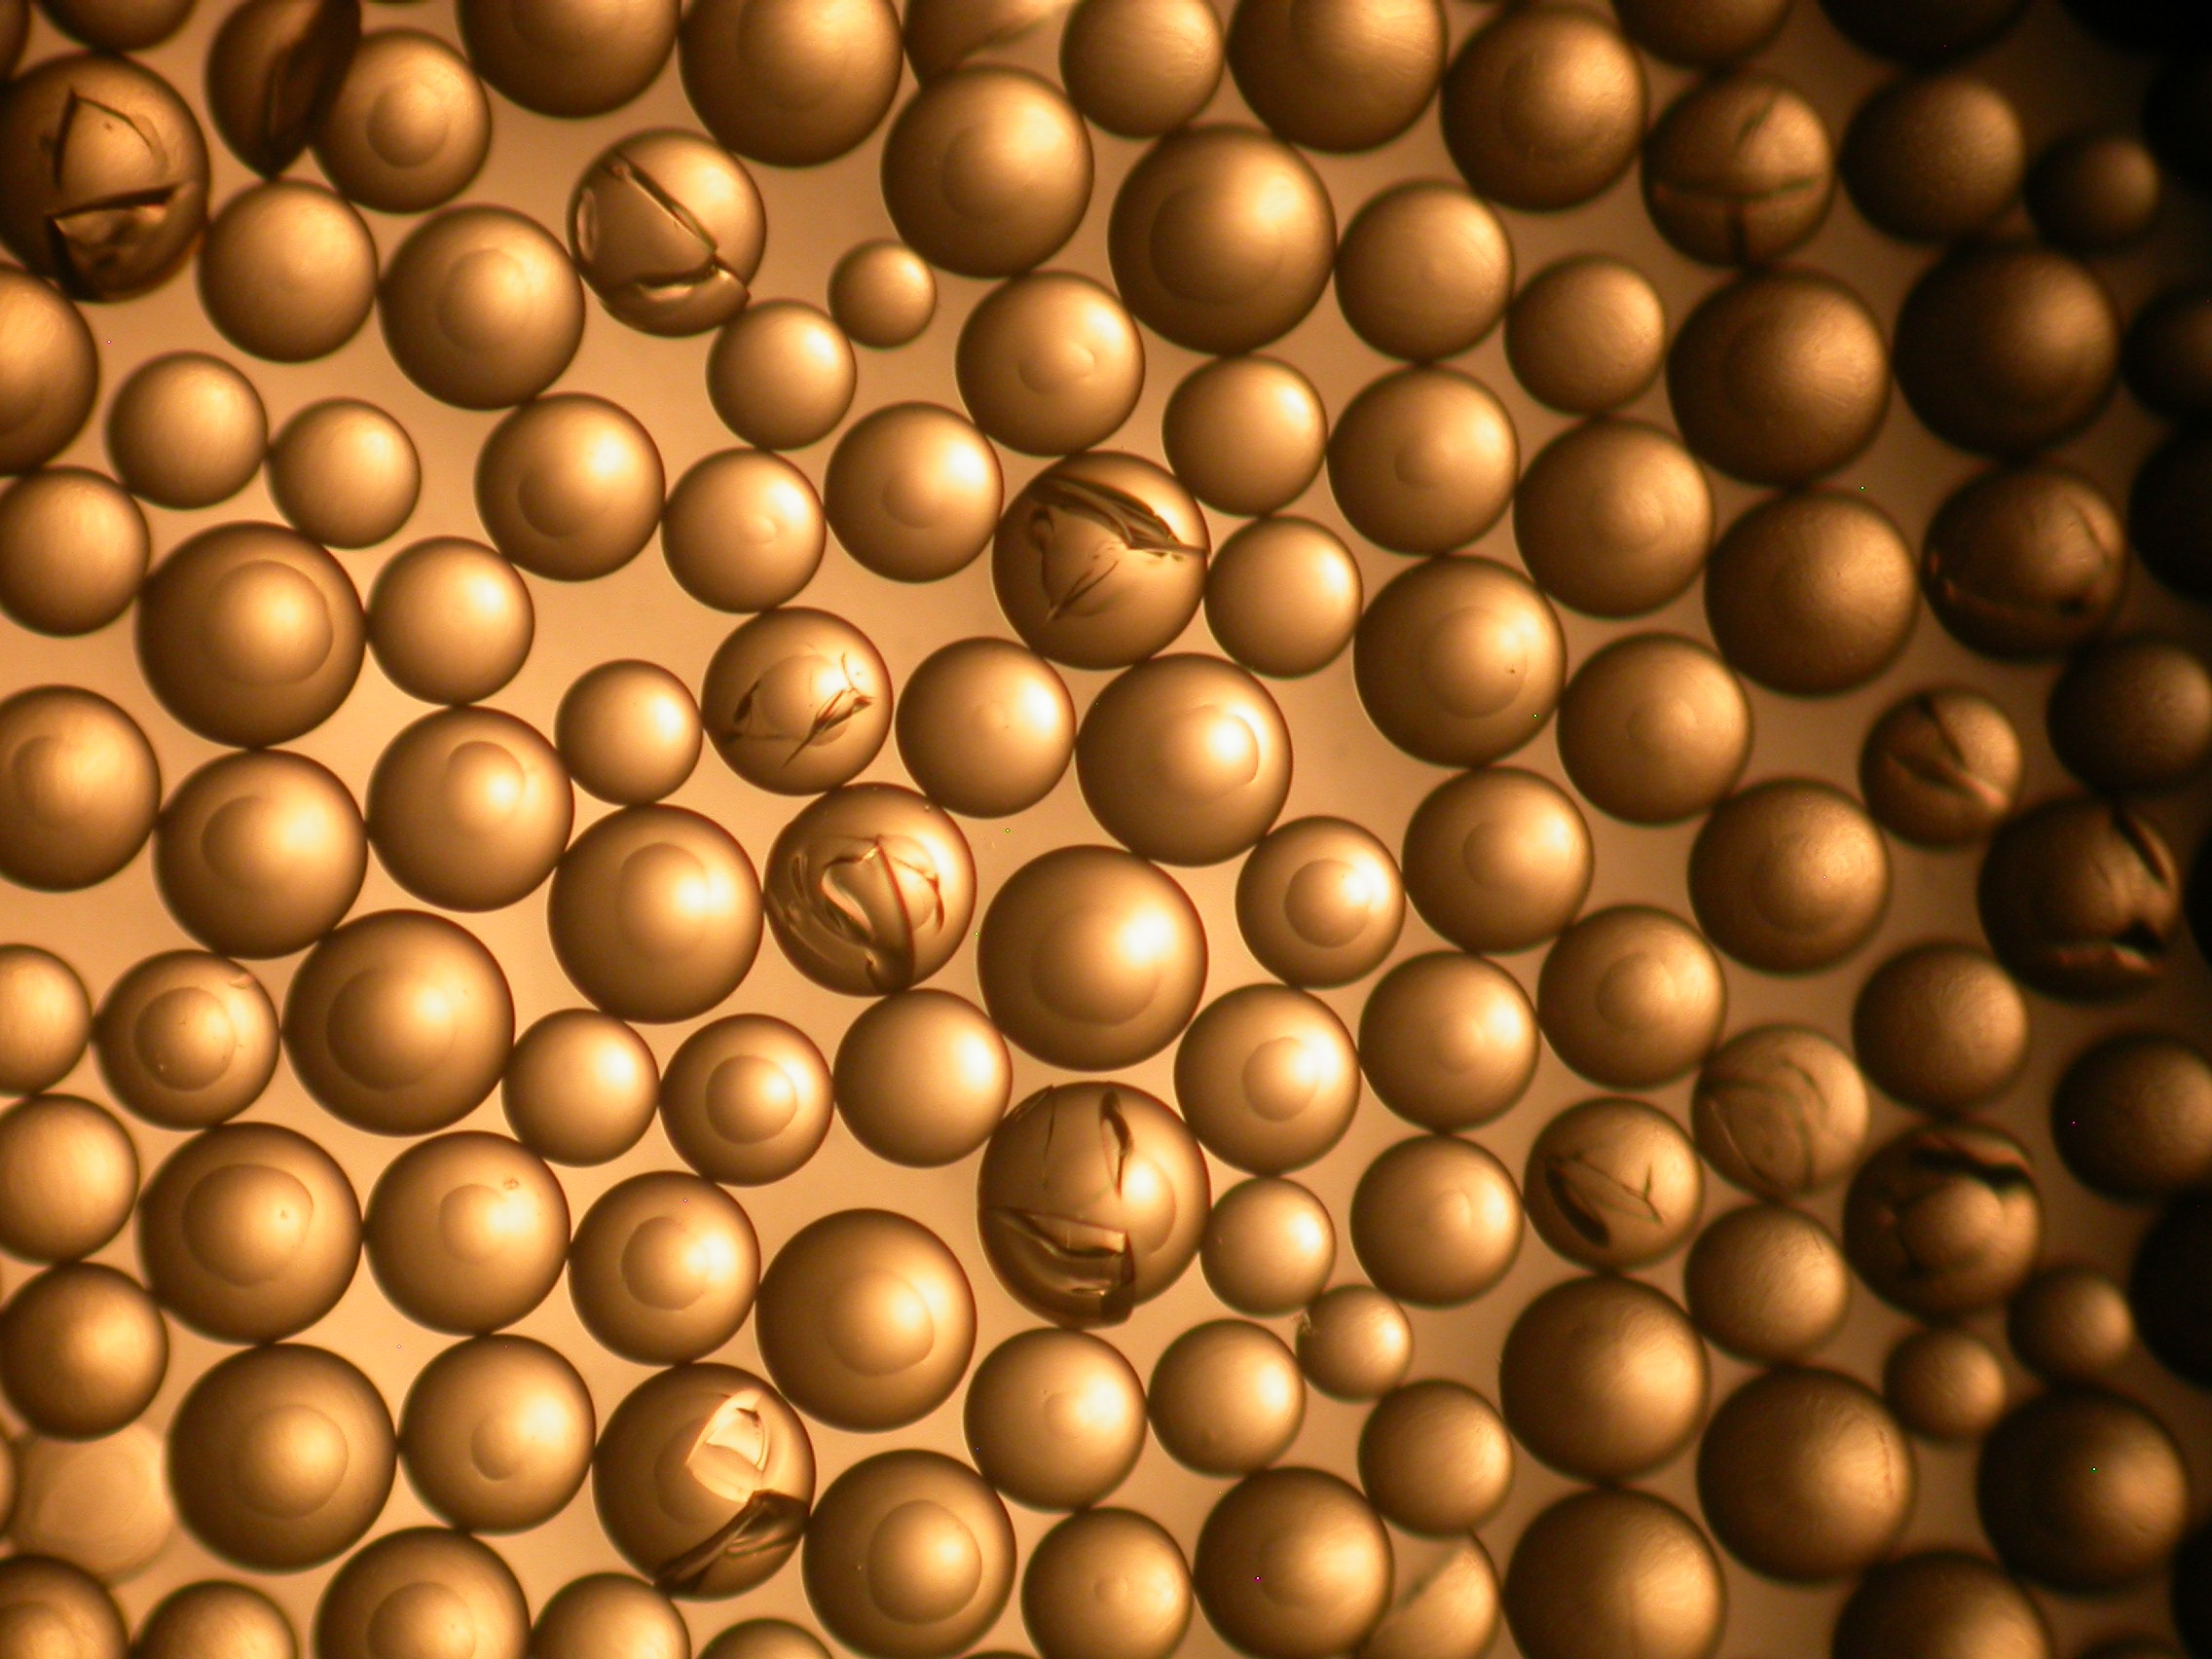destroyed_resin: (977, 1084, 1214, 1331), (592, 1364, 819, 1601), (2, 52, 207, 301), (991, 450, 1211, 673), (763, 782, 979, 997), (1919, 460, 2128, 669), (1977, 796, 2184, 1006), (564, 125, 766, 338), (1843, 1115, 2045, 1324), (1641, 73, 1838, 270), (700, 606, 894, 795), (1526, 1096, 1703, 1272), (1693, 1025, 1871, 1199), (202, 2, 359, 181), (1858, 687, 2024, 852), (1364, 1534, 1507, 1659), (902, 2, 1066, 84)
full_resin: (167, 1342, 397, 1577), (977, 845, 1211, 1073), (282, 911, 517, 1138), (136, 525, 368, 748), (1108, 127, 1332, 355), (756, 1208, 979, 1434), (138, 1122, 362, 1345), (1895, 239, 2121, 460), (1669, 270, 1893, 488), (547, 803, 766, 1023), (1696, 1370, 1921, 1581), (1353, 554, 1569, 769), (1076, 653, 1291, 868), (880, 63, 1094, 277), (1498, 1274, 1714, 1486), (152, 749, 369, 960), (1705, 488, 1919, 701), (801, 1448, 1017, 1659), (1977, 1385, 2189, 1595), (1437, 2, 1646, 213), (364, 704, 575, 911), (378, 204, 589, 411), (364, 1131, 573, 1337), (1515, 416, 1719, 622), (1689, 779, 1893, 978), (401, 1335, 599, 1537), (1191, 1471, 1400, 1659), (1555, 634, 1756, 828), (1503, 1490, 1730, 1659), (1325, 366, 1521, 558), (674, 2, 902, 164), (954, 268, 1146, 460), (568, 1173, 761, 1363), (474, 394, 667, 584), (1402, 769, 1595, 957), (1536, 904, 1728, 1093), (1174, 983, 1362, 1175), (1224, 2, 1451, 157), (963, 1326, 1148, 1516), (1334, 179, 1517, 366), (200, 179, 383, 366), (96, 950, 282, 1133), (2, 683, 164, 892), (824, 401, 1008, 584), (1359, 950, 1541, 1134), (1839, 68, 2027, 247), (315, 26, 493, 216), (831, 990, 1014, 1173), (895, 636, 1076, 821), (1851, 943, 2034, 1115), (657, 1014, 833, 1192), (1350, 1136, 1526, 1314), (2, 1258, 171, 1441), (312, 1525, 535, 1659), (1237, 817, 1407, 992), (366, 535, 535, 702), (2052, 1032, 2212, 1206), (662, 450, 829, 613), (1503, 254, 1669, 418), (449, 2, 679, 118), (2048, 634, 2212, 796), (1162, 357, 1325, 519), (1686, 1206, 1853, 1364), (1021, 1507, 1195, 1659), (2, 464, 152, 638), (1205, 518, 1364, 681), (1146, 1317, 1306, 1478), (108, 352, 268, 509), (503, 1007, 657, 1171), (1360, 1380, 1517, 1537), (2, 1093, 143, 1265), (1829, 1554, 2054, 1659), (1059, 2, 1226, 141), (270, 401, 423, 552), (705, 300, 857, 450), (2, 260, 101, 479), (556, 660, 704, 807), (1200, 1178, 1341, 1319), (2029, 125, 2165, 256), (1881, 1324, 2010, 1446), (2008, 1265, 2139, 1385), (1298, 1284, 1418, 1406), (2, 941, 92, 1098), (131, 1577, 301, 1659), (533, 1572, 690, 1659), (829, 239, 937, 352)
